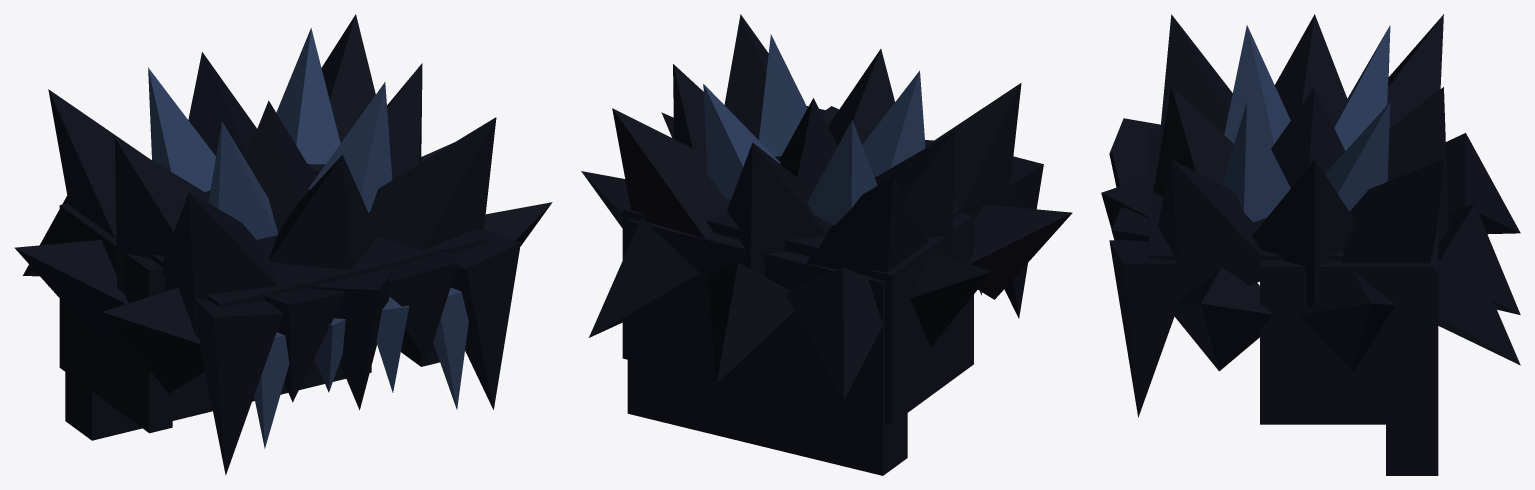
Rendered from PeloFlequillo.fbx.
The picture shows the model from 3 angles, left to right: view 1: azimuth 30°, elevation 25°; view 2: azimuth 150°, elevation 25°; view 3: azimuth 270°, elevation 25°; orthographic projection. The views are drawn at different scales.
Parts seen in each view (by area): view 1: Pelo_Flequillo_C3, Pelo_Flequillo_P11, Pelo_Flequillo_P5, Pelo_Flequillo_P0, Pelo_Flequillo_P8, Pelo_Flequillo_P4, Pelo_Flequillo_P6, Pelo_Flequillo_P7, Pelo_Flequillo_P14, Pelo_Flequillo_P15, Pelo_Flequillo_C0, Pelo_Flequillo_L7 (+17 smaller); view 2: Pelo_Flequillo_C1, Pelo_Flequillo_C3, Pelo_Flequillo_P13, Pelo_Flequillo_P18, Pelo_Flequillo_P10, Pelo_Flequillo_P7, Pelo_Flequillo_P5, Pelo_Flequillo_P19, Pelo_Flequillo_P20, Pelo_Flequillo_P14, Pelo_Flequillo_P6, Pelo_Flequillo_P15 (+12 smaller); view 3: Pelo_Flequillo_C2, Pelo_Flequillo_P11, Pelo_Flequillo_P13, Pelo_Flequillo_P4, Pelo_Flequillo_P12, Pelo_Flequillo_P16, Pelo_Flequillo_P20, Pelo_Flequillo_P17, Pelo_Flequillo_P8, Pelo_Flequillo_L6, Pelo_Flequillo_P10, Pelo_Flequillo_P5 (+14 smaller).
Boxes of the visible parts, x1=… form: Pelo_Flequillo_C3: x1=59, y1=203, x2=172, y2=433; Pelo_Flequillo_P11: x1=368, y1=117, x2=496, y2=250; Pelo_Flequillo_P5: x1=163, y1=192, x2=277, y2=337; Pelo_Flequillo_P0: x1=195, y1=299, x2=282, y2=475; Pelo_Flequillo_P8: x1=269, y1=154, x2=377, y2=269; Pelo_Flequillo_P4: x1=450, y1=229, x2=520, y2=409; Pelo_Flequillo_P6: x1=115, y1=138, x2=209, y2=294; Pelo_Flequillo_P7: x1=48, y1=89, x2=147, y2=237; Pelo_Flequillo_P14: x1=102, y1=287, x2=204, y2=393; Pelo_Flequillo_P15: x1=14, y1=240, x2=128, y2=342; Pelo_Flequillo_C0: x1=151, y1=175, x2=487, y2=306; Pelo_Flequillo_L7: x1=276, y1=28, x2=340, y2=164; Pelo_Flequillo_C1: x1=627, y1=219, x2=907, y2=475; Pelo_Flequillo_C3: x1=871, y1=213, x2=973, y2=423; Pelo_Flequillo_P13: x1=612, y1=108, x2=731, y2=238; Pelo_Flequillo_P18: x1=785, y1=267, x2=882, y2=399; Pelo_Flequillo_P10: x1=727, y1=142, x2=826, y2=276; Pelo_Flequillo_P7: x1=806, y1=177, x2=927, y2=276; Pelo_Flequillo_P5: x1=925, y1=83, x2=1021, y2=219; Pelo_Flequillo_P19: x1=708, y1=263, x2=794, y2=383; Pelo_Flequillo_P20: x1=589, y1=218, x2=700, y2=337; Pelo_Flequillo_P14: x1=968, y1=204, x2=1072, y2=299; Pelo_Flequillo_P6: x1=875, y1=132, x2=953, y2=257; Pelo_Flequillo_P15: x1=910, y1=251, x2=992, y2=345; Pelo_Flequillo_C2: x1=1260, y1=256, x2=1433, y2=424; Pelo_Flequillo_P11: x1=1157, y1=159, x2=1260, y2=300; Pelo_Flequillo_P13: x1=1340, y1=159, x2=1443, y2=263; Pelo_Flequillo_P4: x1=1109, y1=240, x2=1179, y2=417; Pelo_Flequillo_P12: x1=1252, y1=160, x2=1356, y2=307; Pelo_Flequillo_P16: x1=1174, y1=267, x2=1273, y2=371; Pelo_Flequillo_P20: x1=1437, y1=237, x2=1520, y2=365; Pelo_Flequillo_P17: x1=1299, y1=271, x2=1395, y2=371; Pelo_Flequillo_P8: x1=1153, y1=87, x2=1234, y2=196; Pelo_Flequillo_L6: x1=1222, y1=102, x2=1290, y2=222; Pelo_Flequillo_P10: x1=1387, y1=87, x2=1448, y2=240; Pelo_Flequillo_P5: x1=1157, y1=14, x2=1232, y2=158.
Size of the model in its own units: 2.07 by 1.57 by 1.72.
